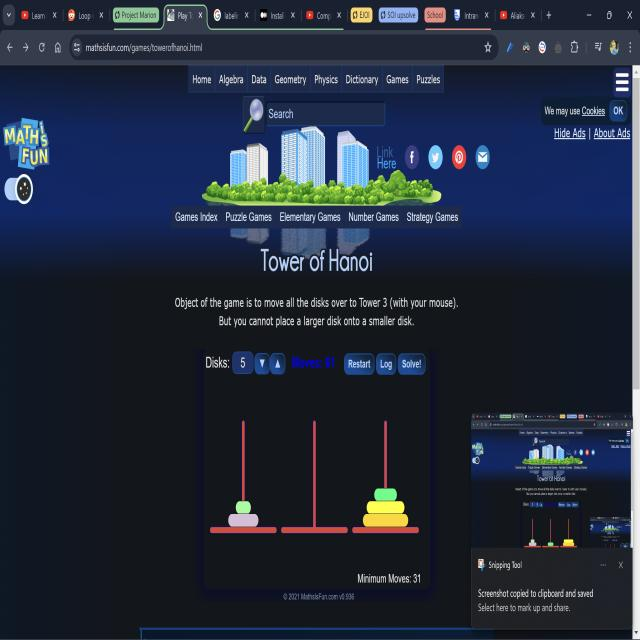disk1: (236, 501, 251, 513)
disk2: (374, 488, 397, 500)
disk3: (228, 514, 259, 527)
disk4: (367, 501, 404, 514)
disk5: (363, 514, 408, 526)
